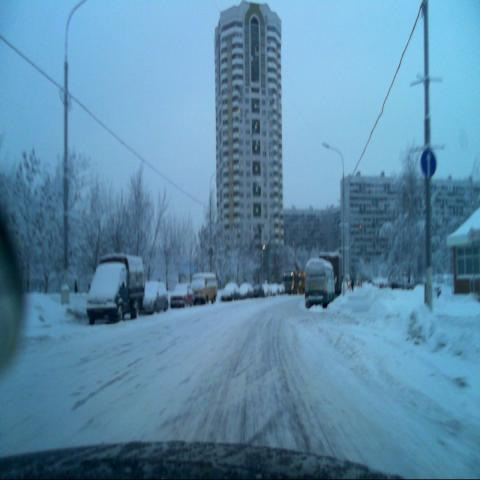4_1_1: (420, 147, 437, 177)
